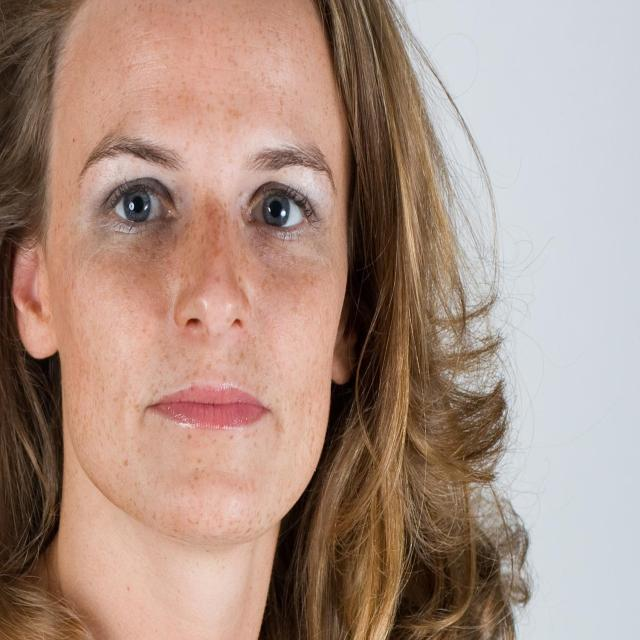no-glass: (98, 168, 313, 228)
